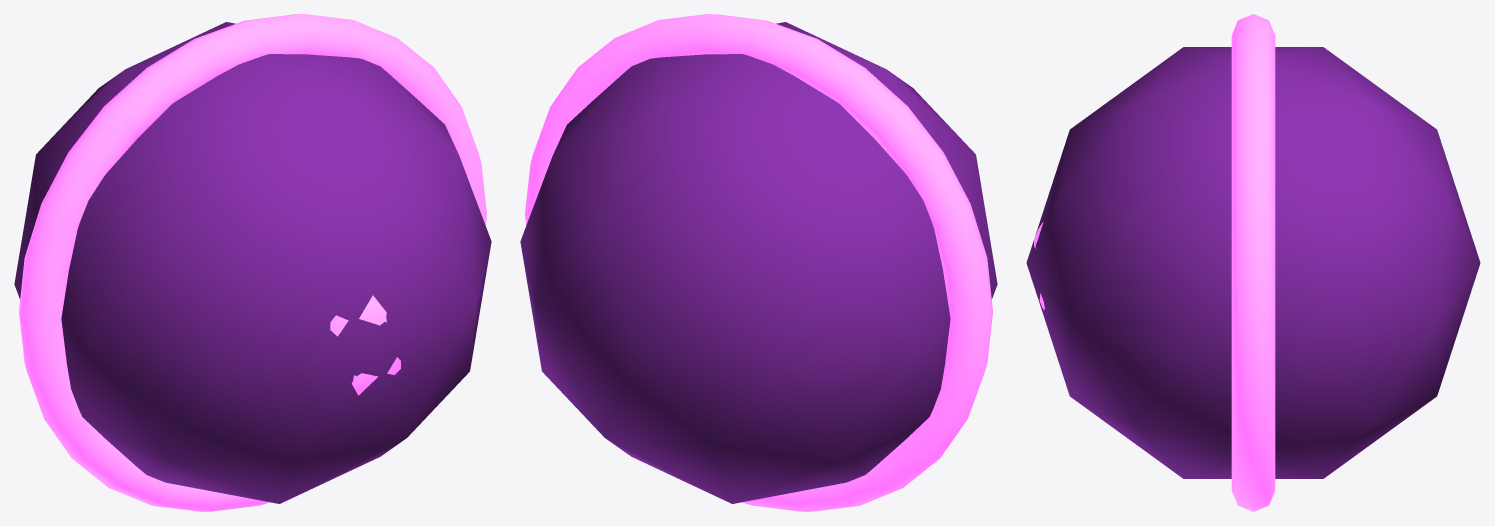
File: boss_serpent_segB.glb
3 renders of one model, left to right at view 1: azimuth 30°, elevation 25°; view 2: azimuth 150°, elevation 25°; view 3: azimuth 270°, elevation 25°, orthographic. The views are drawn at different scales.
Parts seen in each view (by area): view 1: Icosphere; view 2: Icosphere; view 3: Icosphere.
Part boxes in pixels (left/top/right/bottom): Icosphere: left=14, top=14, right=491, bottom=511; Icosphere: left=520, top=14, right=997, bottom=511; Icosphere: left=1026, top=14, right=1480, bottom=511.
Bounding box in the file's own units: 0.68 × 0.68 × 0.62.
